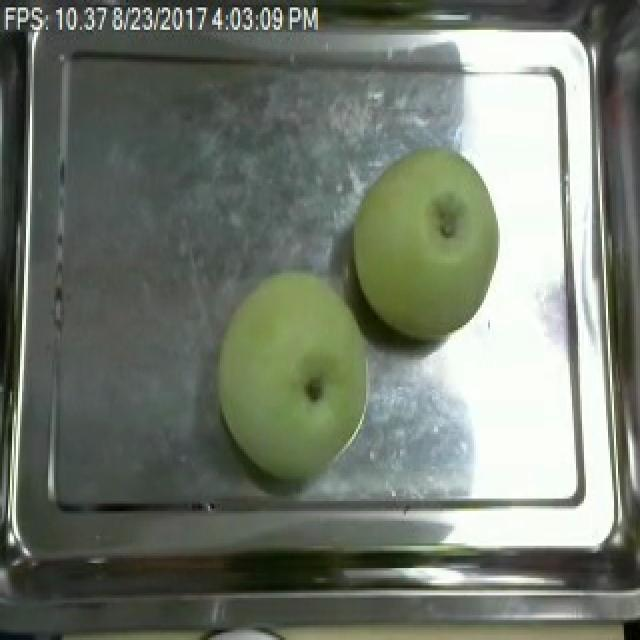50-_ripeness: (216, 259, 386, 501), (348, 146, 524, 360)
